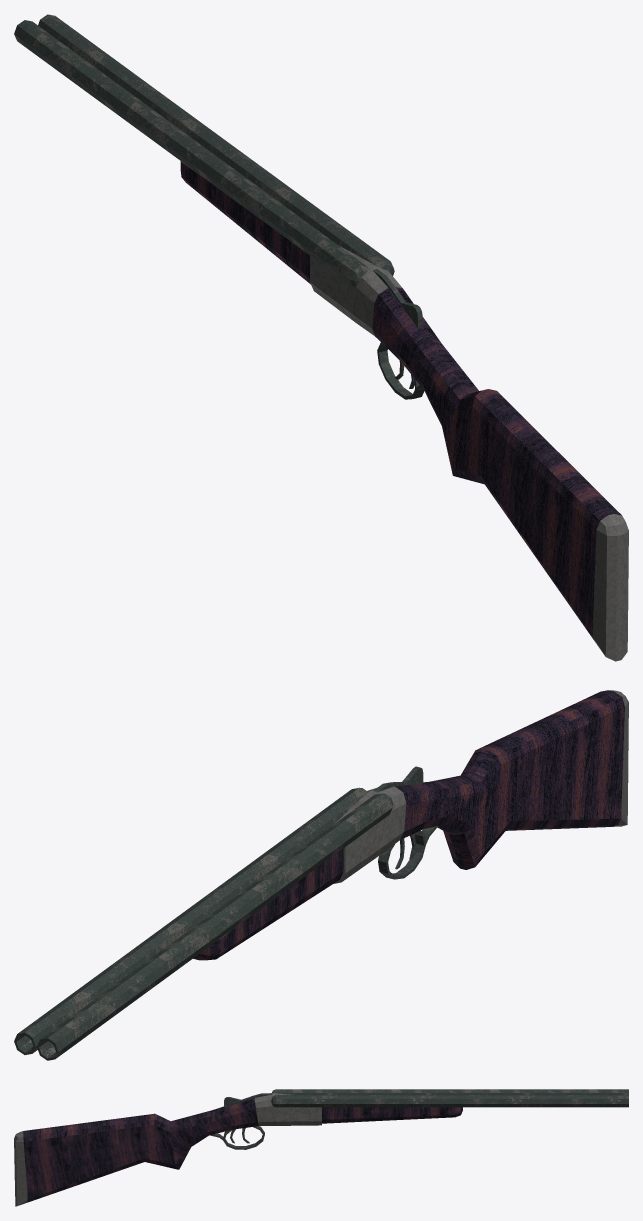
File: super shotgun.glb
The picture shows the model from 3 angles, top to bottom: view 1: azimuth 30°, elevation 25°; view 2: azimuth 150°, elevation 25°; view 3: azimuth 270°, elevation 25°; orthographic projection. The views are drawn at different scales.
Parts seen in each view (by area): view 1: Shotgun_doubleBarrel; view 2: Shotgun_doubleBarrel; view 3: Shotgun_doubleBarrel.
Part boxes in pixels (box(x1,y1,x2,y2)): Shotgun_doubleBarrel: box(14, 14, 628, 661); Shotgun_doubleBarrel: box(14, 690, 628, 1060); Shotgun_doubleBarrel: box(14, 1089, 628, 1206).
Bounding box in the file's own units: 0.0671 × 0.3114 × 1.52.
3 materials, 3 textured.
